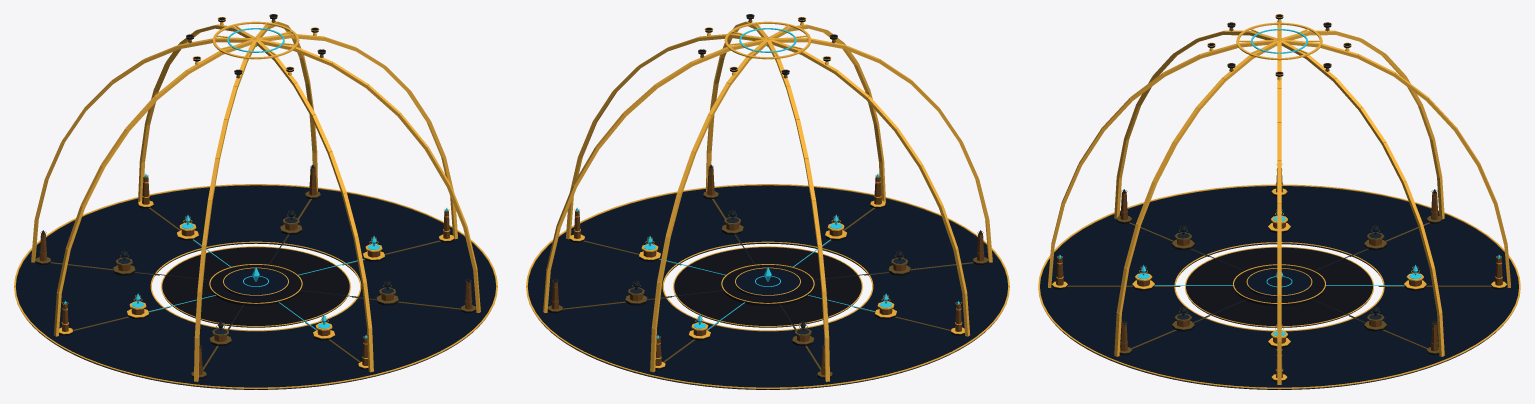
The model's file is vmt_phase_a_8lane_chamber_showcase.obj.
3 renders of one model, left to right at view 1: azimuth 30°, elevation 25°; view 2: azimuth 150°, elevation 25°; view 3: azimuth 270°, elevation 25°, orthographic.
Visible parts, largest first — view 1: VMT_PhaseA_8Lane_Chamber_Showcase; view 2: VMT_PhaseA_8Lane_Chamber_Showcase; view 3: VMT_PhaseA_8Lane_Chamber_Showcase.
Boxes of the visible parts, box(x1,y1,x2,y2) form: VMT_PhaseA_8Lane_Chamber_Showcase: box(14, 14, 497, 389); VMT_PhaseA_8Lane_Chamber_Showcase: box(526, 14, 1009, 389); VMT_PhaseA_8Lane_Chamber_Showcase: box(1038, 14, 1520, 389).
Size of the model in its own units: 92.32 by 52.45 by 92.32.
